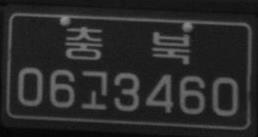0: (211, 76, 239, 117), (16, 66, 43, 106)
3: (113, 70, 140, 112)
4: (146, 74, 174, 112)
6: (178, 74, 206, 115), (49, 68, 75, 108)
고: (80, 69, 108, 110)
충북_D: (65, 26, 192, 64)
